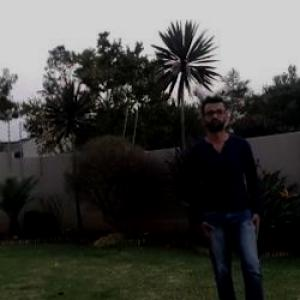follow: (181, 67, 275, 299)
